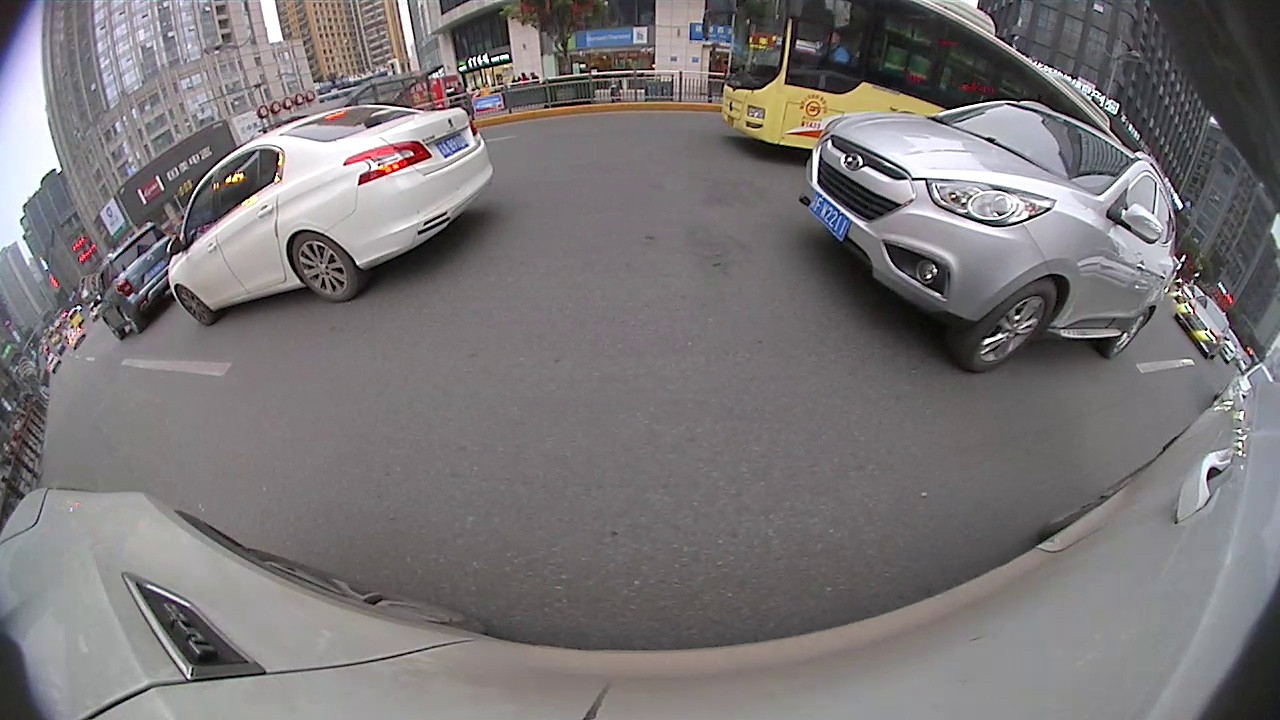bus: (719, 1, 1134, 157)
car: (798, 98, 1184, 377), (163, 102, 496, 327), (91, 223, 182, 341)
front: (962, 275, 1057, 374), (174, 282, 214, 327)
rear: (292, 230, 363, 306), (1099, 304, 1151, 364)
